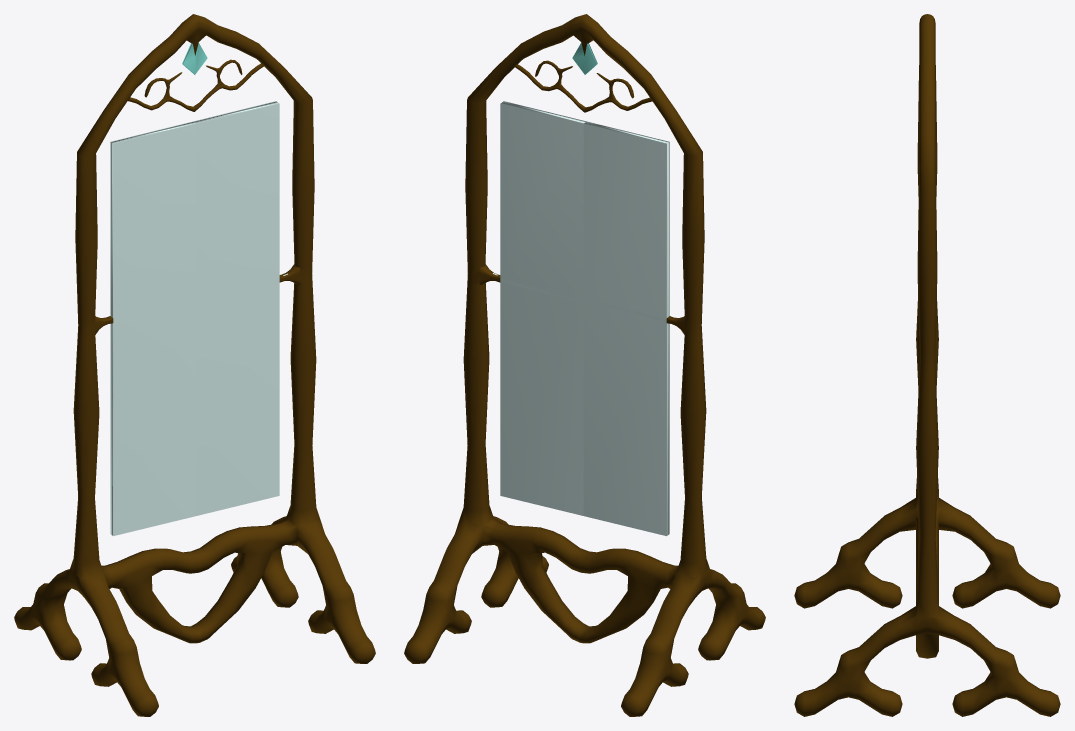
The model's file is FantasyMagicMirror.fbx.
3 views of the same model, side by side, from view 1: azimuth 30°, elevation 25°; view 2: azimuth 150°, elevation 25°; view 3: azimuth 270°, elevation 25° (orthographic). The views are drawn at different scales.
Visible parts, largest first — view 1: Mirror; view 2: Mirror; view 3: Mirror.
Part boxes in pixels (x1=…): Mirror: x1=14, y1=14, x2=375, y2=716; Mirror: x1=404, y1=14, x2=765, y2=716; Mirror: x1=794, y1=14, x2=1060, y2=716.
Size of the model in its own units: 11.59 by 29.14 by 10.87.
1 material, 1 textured.
